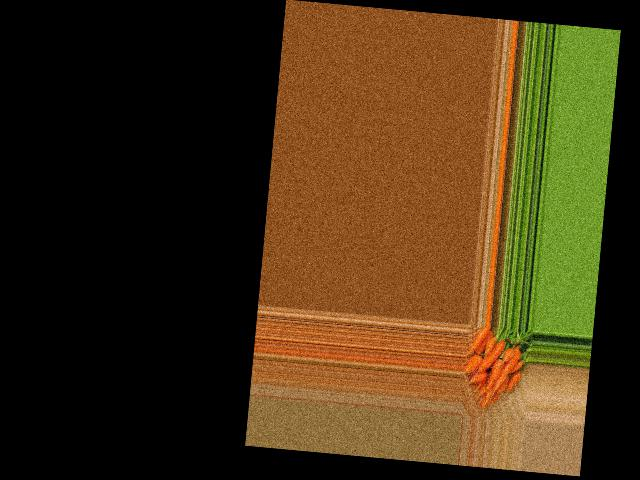carrot: (509, 361, 525, 377)
